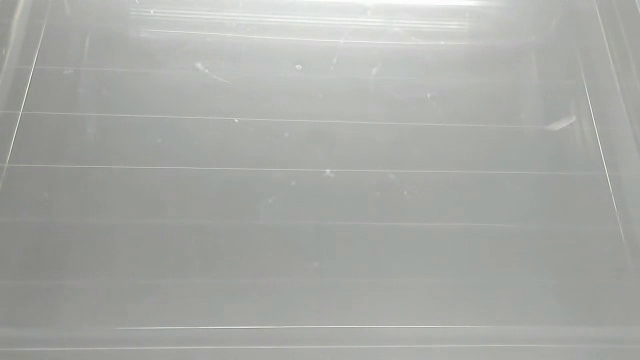alpha: (544, 111, 579, 134)
